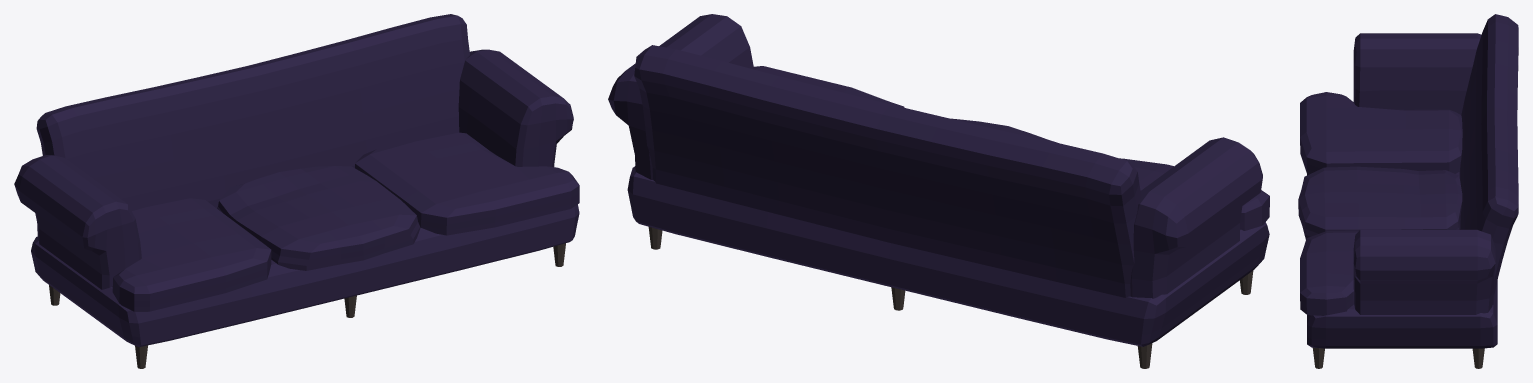
Rendered from Sofa.gltf.
3 views of the same model, side by side, from view 1: azimuth 30°, elevation 25°; view 2: azimuth 150°, elevation 25°; view 3: azimuth 270°, elevation 25° (orthographic). The views are drawn at different scales.
Visible parts, largest first — view 1: Sofa; view 2: Sofa; view 3: Sofa.
Boxes of the visible parts, x1,y1,x2,y2 form: Sofa: (14,14,579,368); Sofa: (608,14,1269,368); Sofa: (1298,14,1518,368).
Size of the model in its own units: 4.24 by 1.51 by 1.78.
